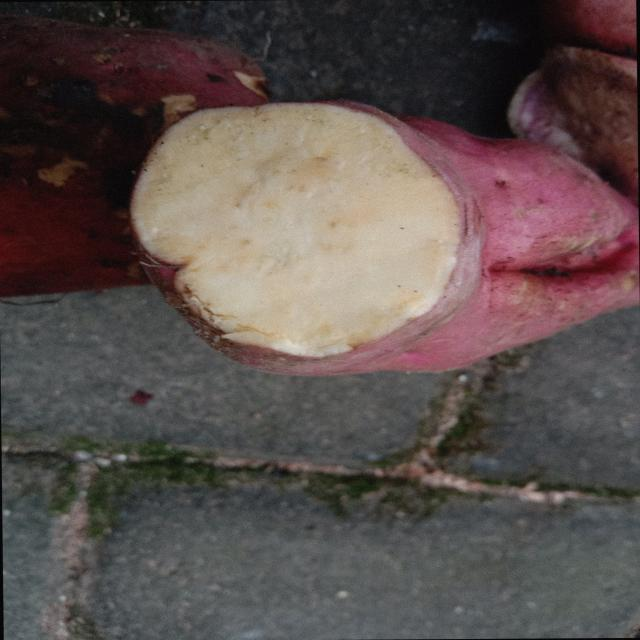Healthy Sweet Potato: (132, 102, 482, 375)
